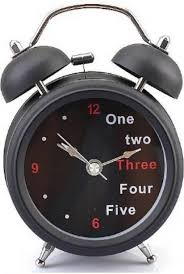alarm_clock: (2, 4, 183, 265), (6, 4, 183, 265)
